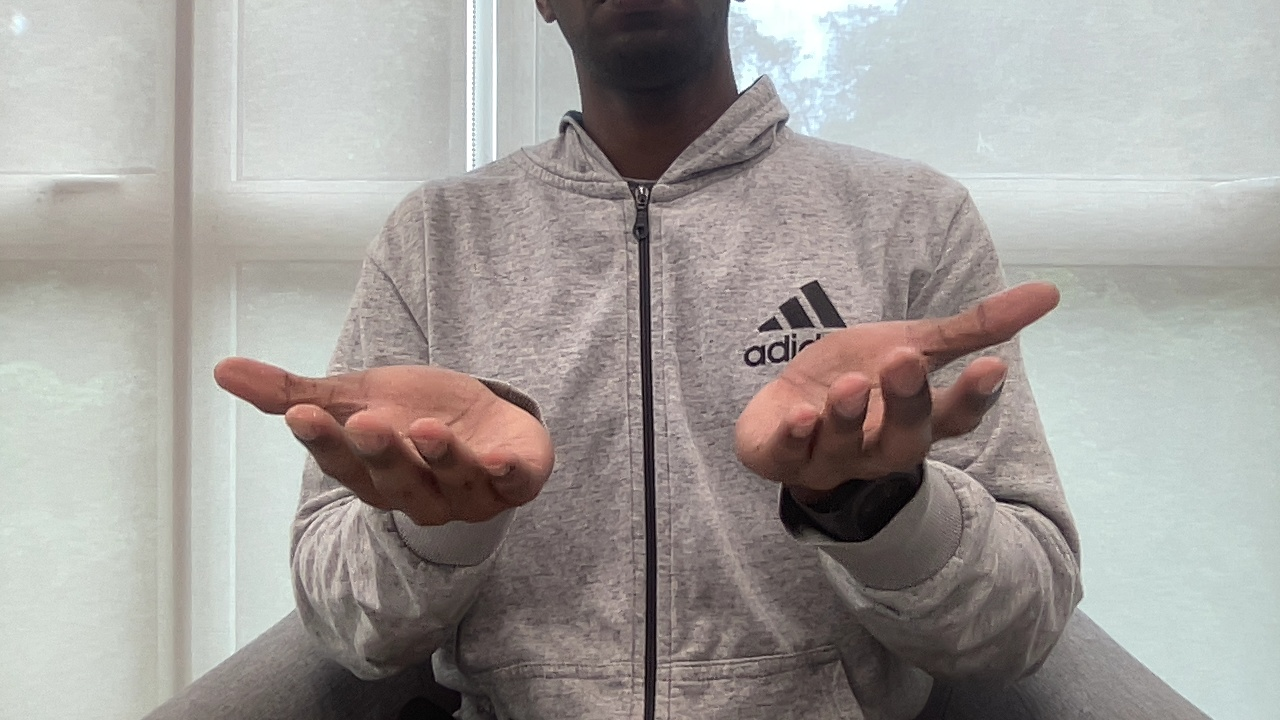give: (203, 275, 1067, 540)
